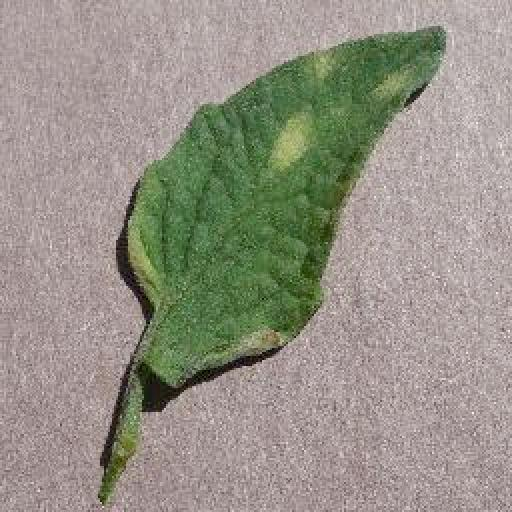disease_tomato: (124, 26, 446, 386)
